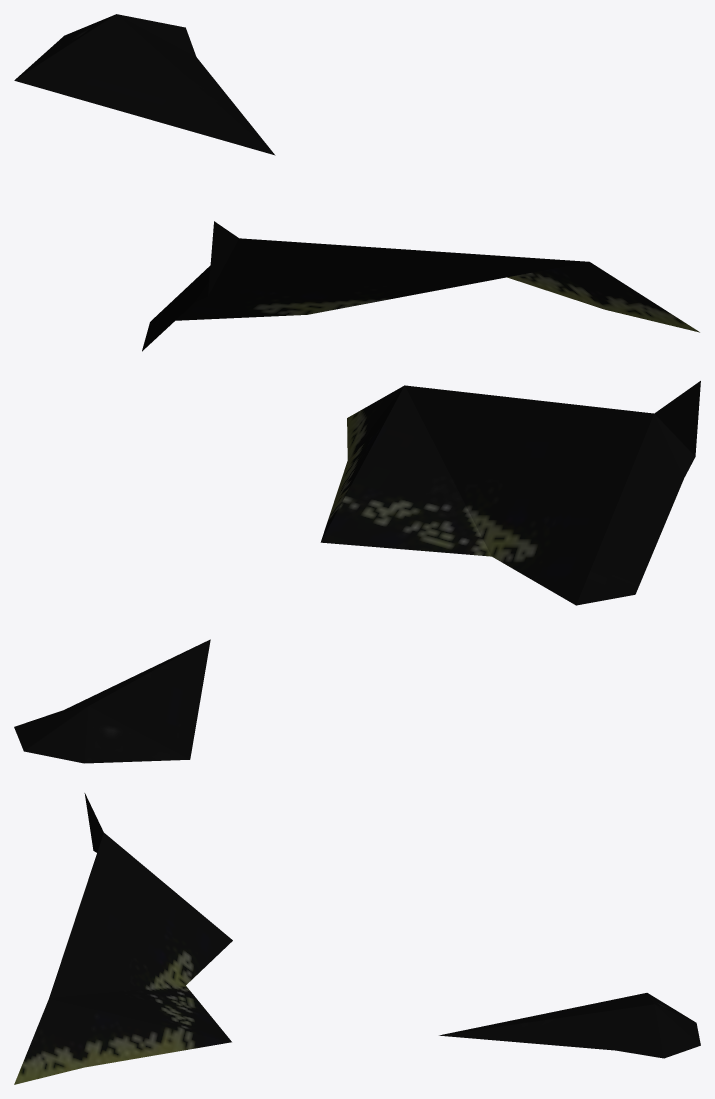
3 renders of one model, top to bottom at view 1: azimuth 30°, elevation 25°; view 2: azimuth 150°, elevation 25°; view 3: azimuth 270°, elevation 25°, orthographic. The views are drawn at different scales.
Bounding box in the file's own units: 0.5445 × 0.2178 × 1.
1 material, 1 textured.
